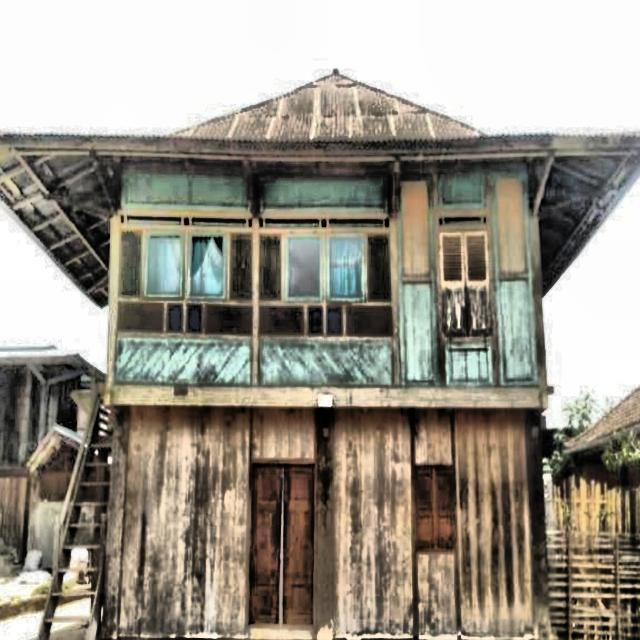door: (249, 464, 314, 626)
roof: (1, 70, 639, 309)
stair: (37, 444, 112, 639)
wall: (107, 168, 549, 406), (103, 404, 550, 639)
window: (440, 231, 491, 335), (415, 465, 455, 552), (146, 234, 182, 297), (190, 235, 225, 297), (329, 236, 363, 298), (288, 236, 319, 299)
